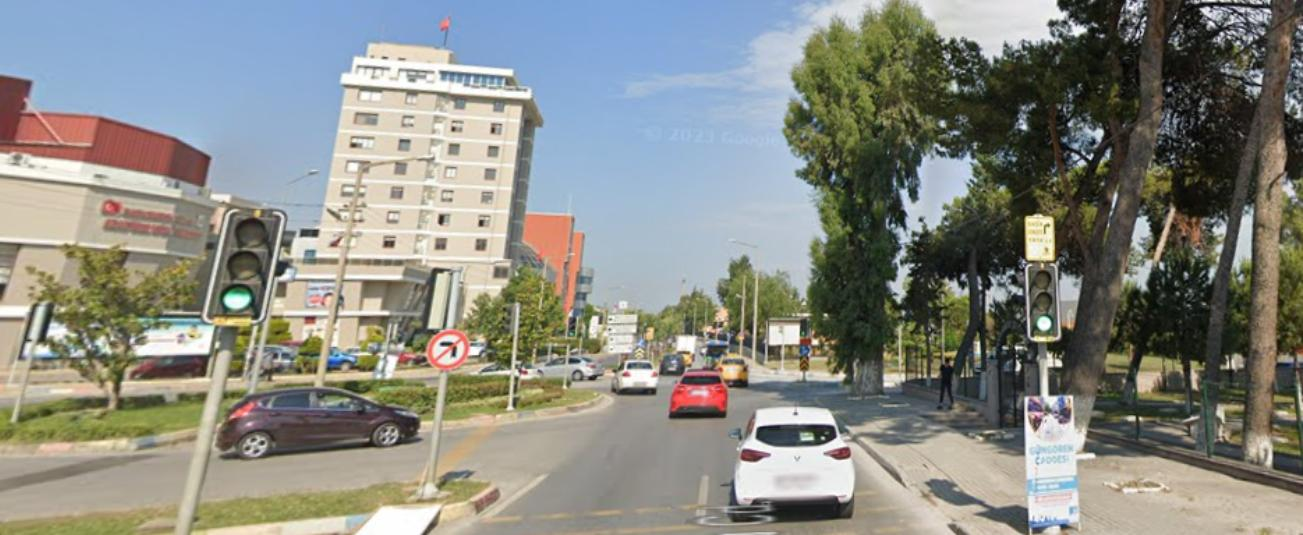greenlight: (225, 209, 264, 312), (1030, 267, 1059, 339)
leftturnsareforbidden: (429, 331, 466, 366)
